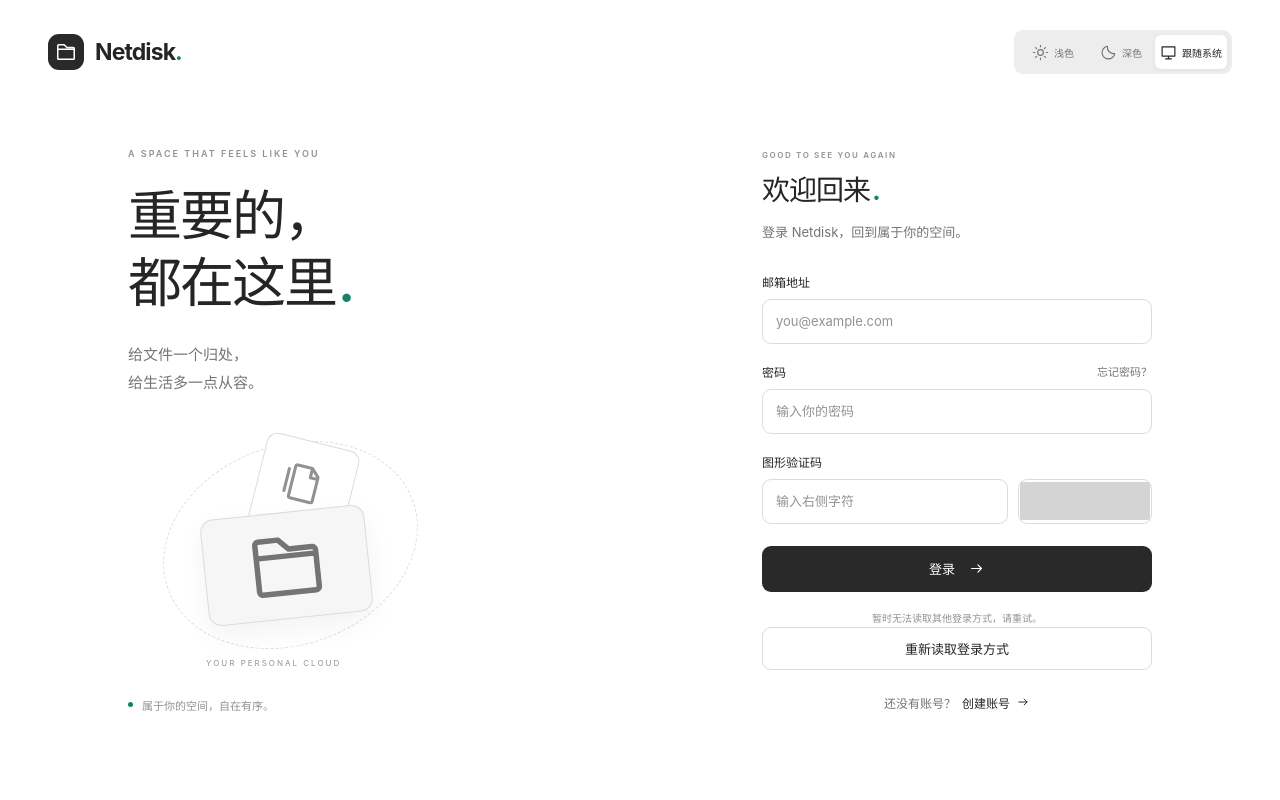
Test case: 账号表单 › 能力读取失败不冒充QQ关闭，重试后按真实能力显示入口
The image size is (1280, 800).
Click the button "重新读取登录方式" at x=957, y=648, box [762,627,1152,670]
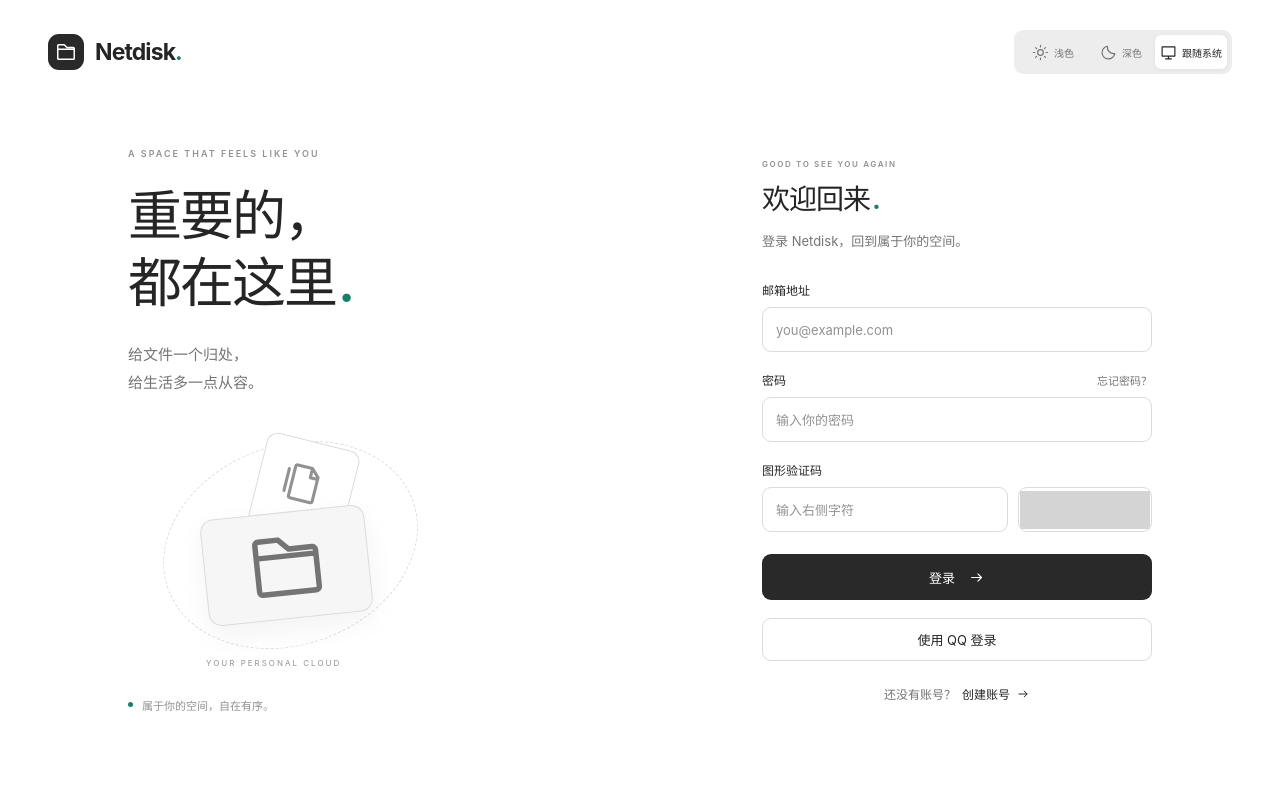
Expected: the button "使用 QQ 登录" is shown, [762,618,1152,661]
Expected: the text "暂时无法读取其他登录方式" is gone
